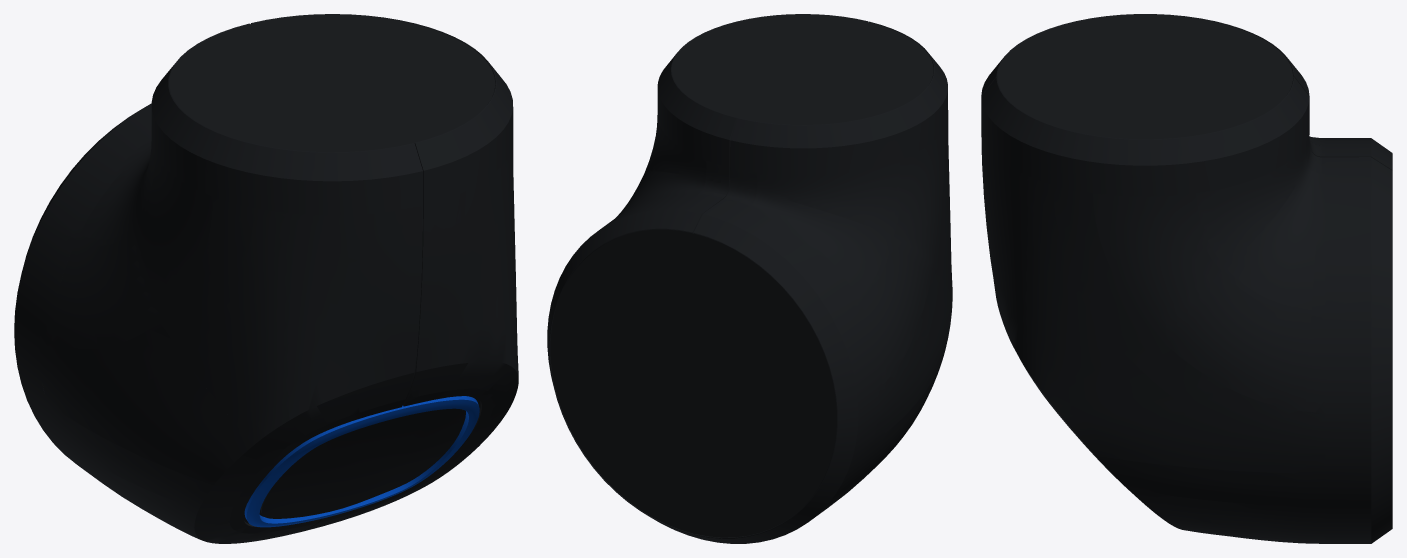
The model's file is seg3.obj.
3 renders of one model, left to right at view 1: azimuth 30°, elevation 25°; view 2: azimuth 150°, elevation 25°; view 3: azimuth 270°, elevation 25°, orthographic. The views are drawn at different scales.
Visible parts, largest first — view 1: E04760014.005_clean_E04760014-mesh.004, E05112723.001_clean_E05112723-mesh; view 2: E04760014.005_clean_E04760014-mesh.004; view 3: E04760014.005_clean_E04760014-mesh.004.
Part boxes in pixels (x1=…): E04760014.005_clean_E04760014-mesh.004: x1=14, y1=14, x2=518, y2=543; E05112723.001_clean_E05112723-mesh: x1=244, y1=396, x2=479, y2=527; E04760014.005_clean_E04760014-mesh.004: x1=547, y1=14, x2=952, y2=543; E04760014.005_clean_E04760014-mesh.004: x1=981, y1=14, x2=1392, y2=543.
Size of the model in its own units: 122 by 148 by 123.
